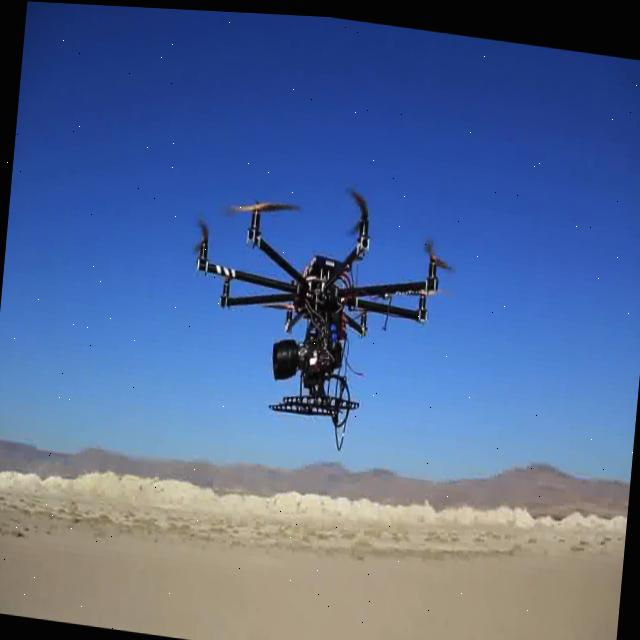drone: (0, 290, 639, 640)
